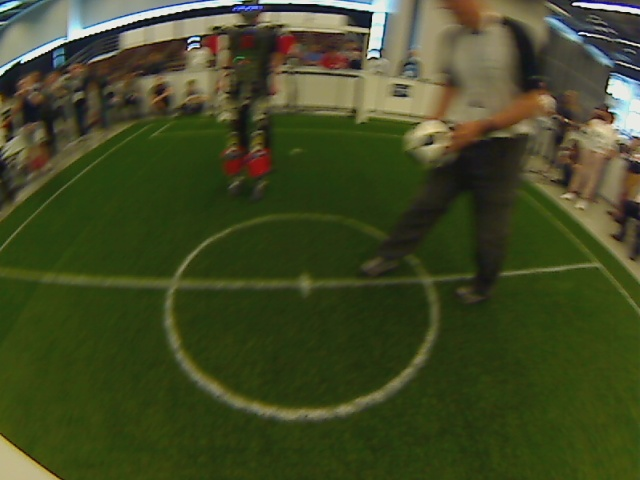ball: (406, 118, 452, 168)
